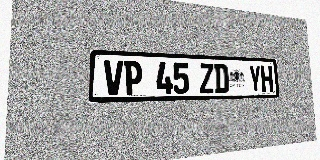4: (156, 62, 173, 94)
5: (173, 63, 190, 94)
D: (214, 64, 229, 93)
H: (260, 66, 273, 92)
P: (124, 61, 142, 95)
V: (103, 60, 123, 95)
Y: (248, 65, 262, 92)
Z: (199, 64, 215, 93)
